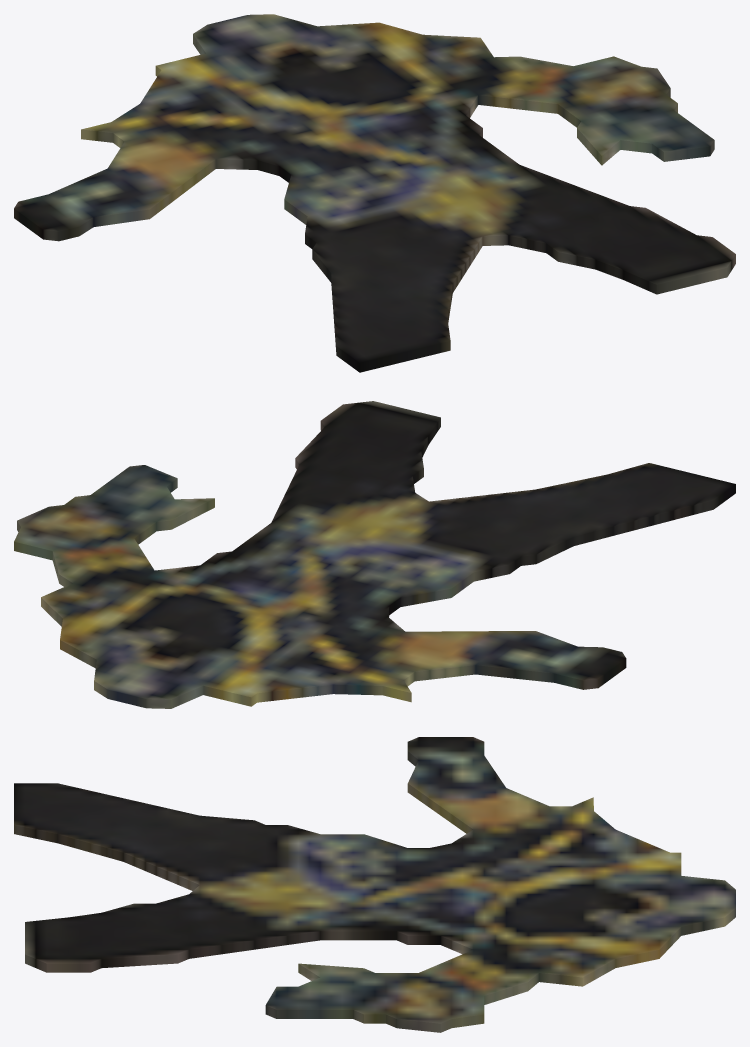
File: HacCa.glb
The picture shows the model from 3 angles, top to bottom: view 1: azimuth 30°, elevation 25°; view 2: azimuth 150°, elevation 25°; view 3: azimuth 270°, elevation 25°; orthographic projection. The views are drawn at different scales.
Parts seen in each view (by area): view 1: HacCa; view 2: HacCa; view 3: HacCa.
Boxes of the visible parts, left/top/right/bottom form: HacCa: left=14, top=14, right=735, bottom=372; HacCa: left=14, top=401, right=735, bottom=708; HacCa: left=14, top=737, right=735, bottom=1032.
Bounding box in the file's own units: 0.3352 × 0.005 × 0.3568.
Materials: 1 (1 with a texture image).
